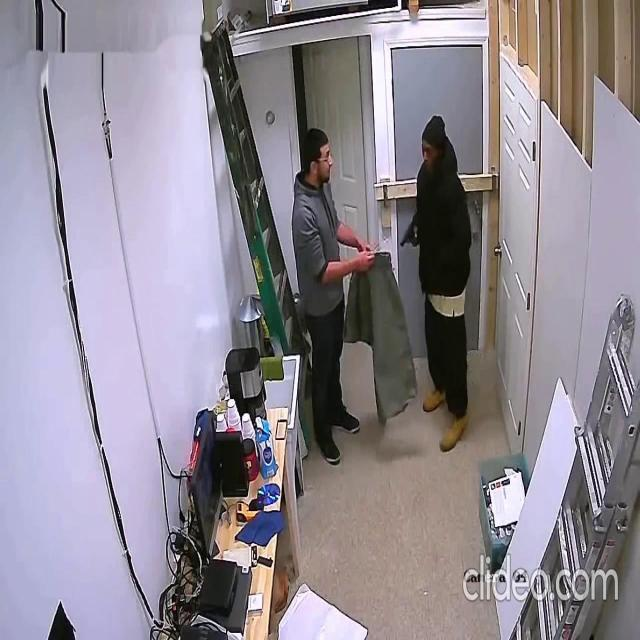pistol: (400, 220, 418, 248)
